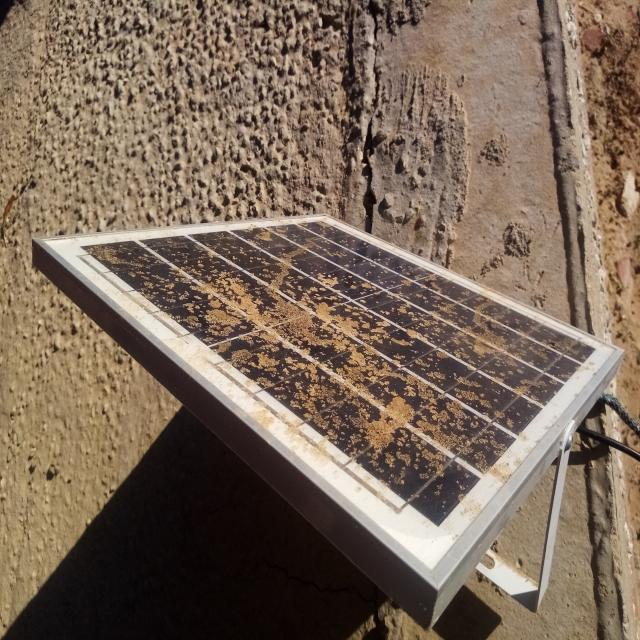faulty: (36, 215, 622, 583)
